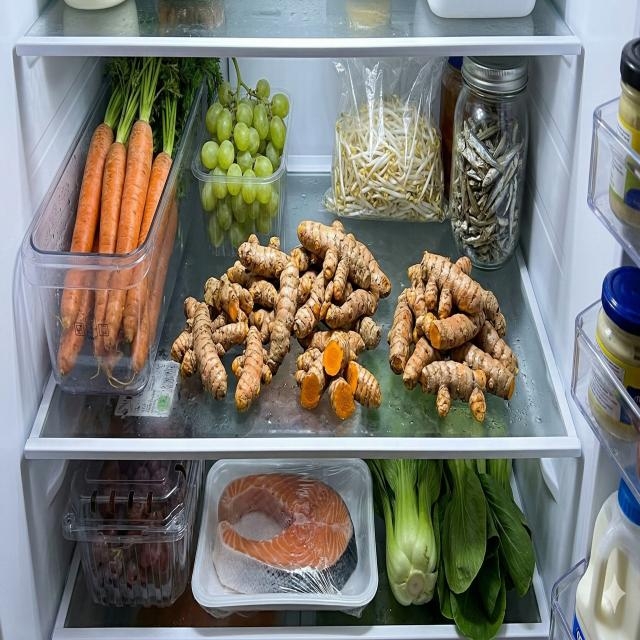anchovies: (450, 115, 525, 265)
bean_sprouts: (325, 94, 446, 222)
carrot: (58, 119, 179, 377)
fish: (211, 473, 358, 594)
grape: (62, 461, 206, 605), (202, 58, 290, 251)
pakchoy: (370, 458, 535, 640)
turmeric: (171, 219, 392, 420), (388, 250, 520, 423)
